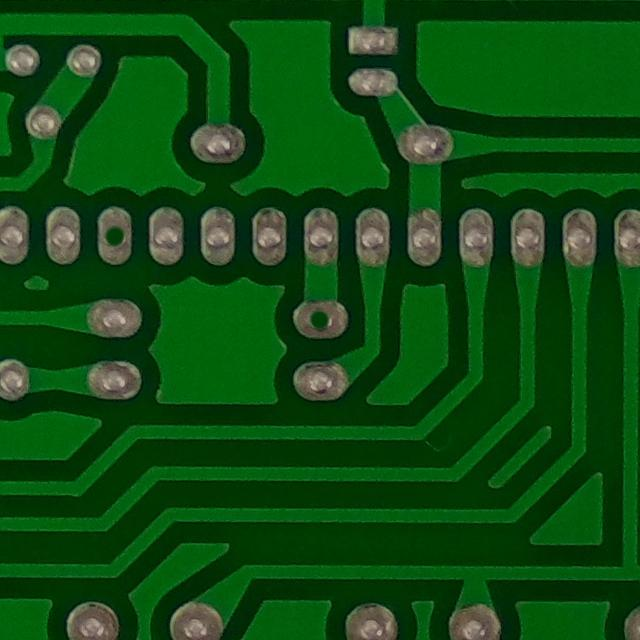missing_hole: (293, 295, 347, 346)
